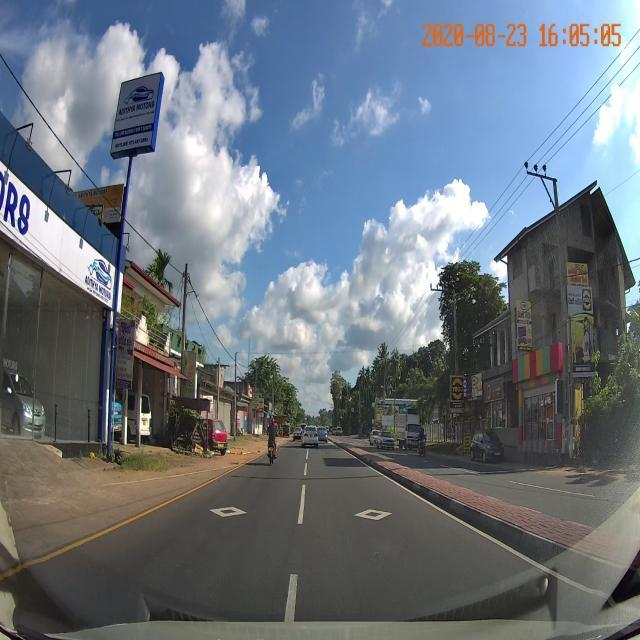diamond: (295, 504, 456, 529)
